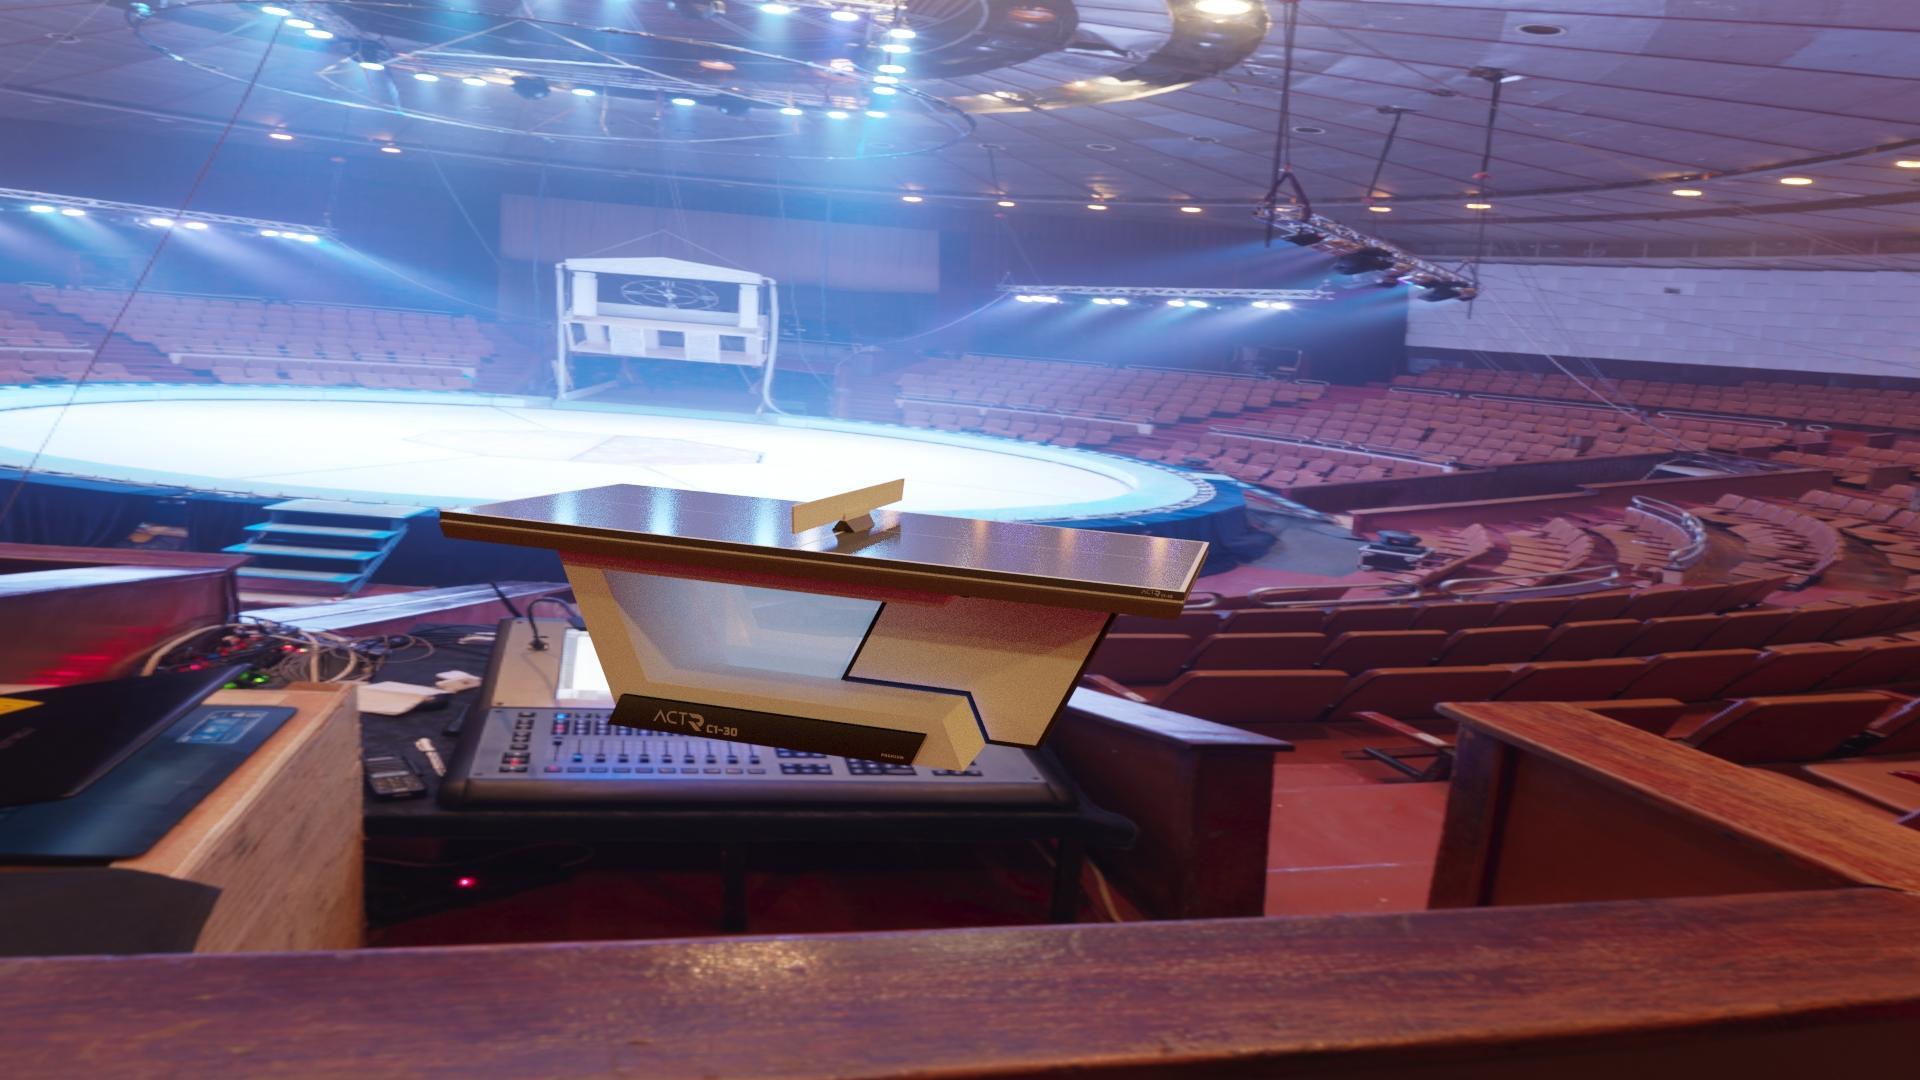table: (447, 484, 1204, 591)
